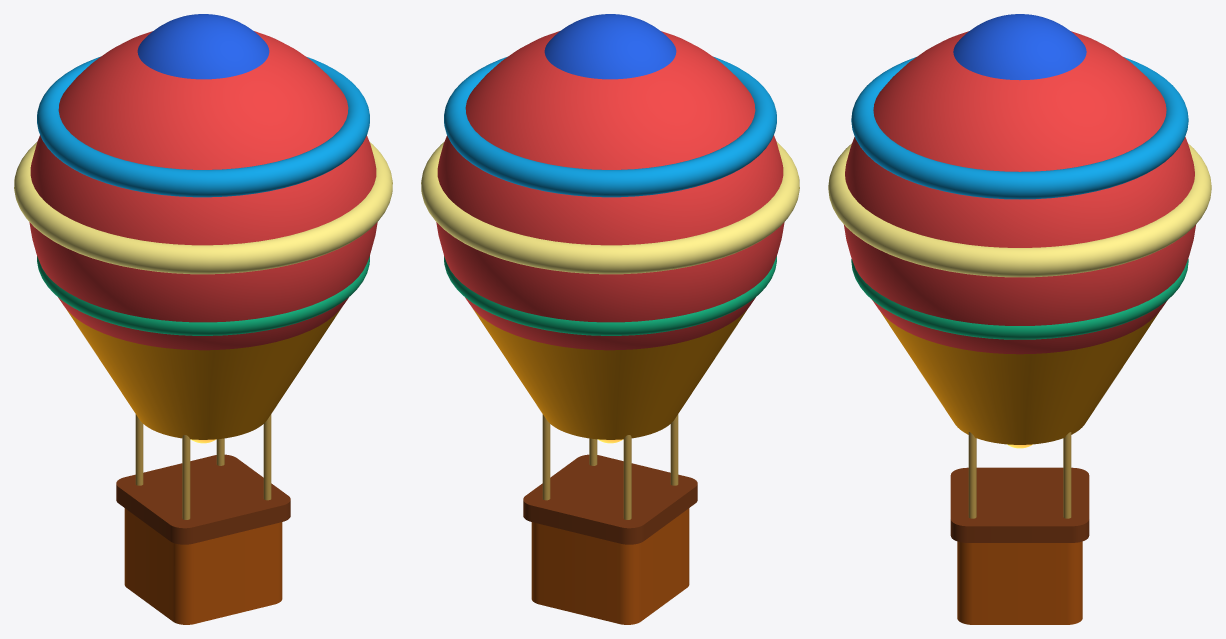
Rendered from hot_air_balloon.glb.
The picture shows the model from 3 angles, left to right: view 1: azimuth 30°, elevation 25°; view 2: azimuth 150°, elevation 25°; view 3: azimuth 270°, elevation 25°; orthographic projection.
Visible parts, largest first — view 1: hab_env, hab_skirt, hab_basket, hab_band1, hab_band2, hab_rim, hab_crown, hab_band3, hab_rope_0, hab_rope_1, hab_rope_2; view 2: hab_env, hab_skirt, hab_basket, hab_band1, hab_band2, hab_rim, hab_crown, hab_band3, hab_rope_2, hab_rope_3, hab_rope_0; view 3: hab_env, hab_skirt, hab_band1, hab_band2, hab_basket, hab_rim, hab_crown, hab_band3, hab_rope_1, hab_rope_3.
Part boxes in pixels (x1=…): hab_env: x1=29, y1=31, x2=377, y2=350; hab_skirt: x1=66, y1=308, x2=341, y2=439; hab_basket: x1=124, y1=508, x2=282, y2=624; hab_band1: x1=14, y1=142, x2=392, y2=274; hab_band2: x1=37, y1=56, x2=369, y2=197; hab_rim: x1=116, y1=454, x2=290, y2=544; hab_crown: x1=137, y1=14, x2=269, y2=79; hab_band3: x1=37, y1=256, x2=369, y2=335; hab_rope_0: x1=182, y1=435, x2=190, y2=519; hab_rope_1: x1=263, y1=414, x2=271, y2=500; hab_rope_2: x1=135, y1=414, x2=143, y2=485; hab_env: x1=436, y1=31, x2=784, y2=350; hab_skirt: x1=472, y1=308, x2=747, y2=439; hab_basket: x1=531, y1=508, x2=689, y2=624; hab_band1: x1=421, y1=142, x2=799, y2=274; hab_band2: x1=444, y1=56, x2=776, y2=197; hab_rim: x1=523, y1=454, x2=697, y2=544; hab_crown: x1=544, y1=14, x2=676, y2=79; hab_band3: x1=444, y1=256, x2=776, y2=335; hab_rope_2: x1=623, y1=435, x2=631, y2=519; hab_rope_3: x1=542, y1=414, x2=550, y2=500; hab_rope_0: x1=670, y1=414, x2=678, y2=485; hab_env: x1=844, y1=31, x2=1195, y2=354; hab_skirt: x1=881, y1=312, x2=1158, y2=444; hab_band1: x1=828, y1=143, x2=1211, y2=277; hab_band2: x1=851, y1=57, x2=1188, y2=199; hab_basket: x1=957, y1=541, x2=1082, y2=624; hab_rim: x1=950, y1=467, x2=1089, y2=542; hab_crown: x1=953, y1=14, x2=1086, y2=80; hab_band3: x1=851, y1=259, x2=1188, y2=339; hab_rope_1: x1=968, y1=432, x2=976, y2=518; hab_rope_3: x1=1063, y1=432, x2=1071, y2=518.
Size of the model in its own units: 0.582 by 0.966 by 0.582.
